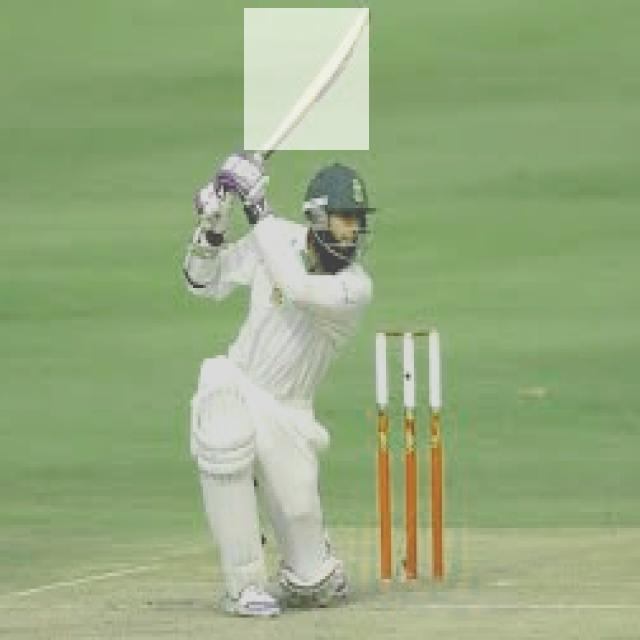bat: (243, 6, 369, 153)
